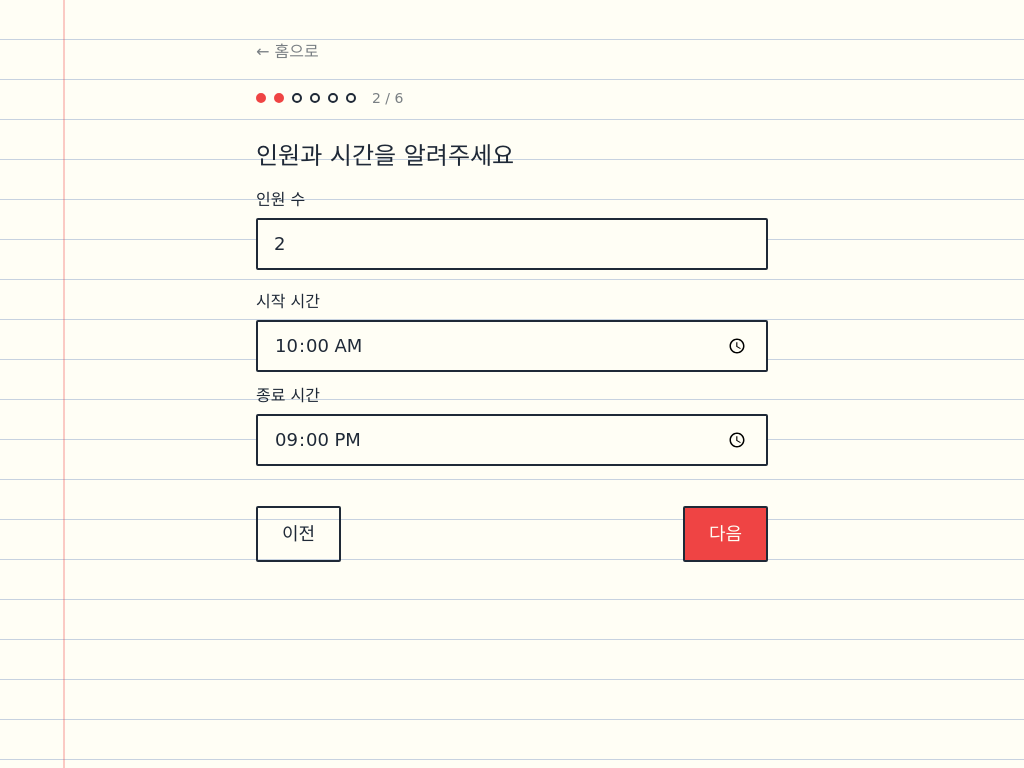
Test case: ConditionWizardView — 인원·예산 범위 검증(백엔드와 같은 범위, 항목 7) › 인원이 30명을 넘으면 안내 문구를 보여주고 다음 버튼을 막는다
Replace the text in the number field labelled "인원 수" with "31" at (512, 244), box [256,218,768,270]
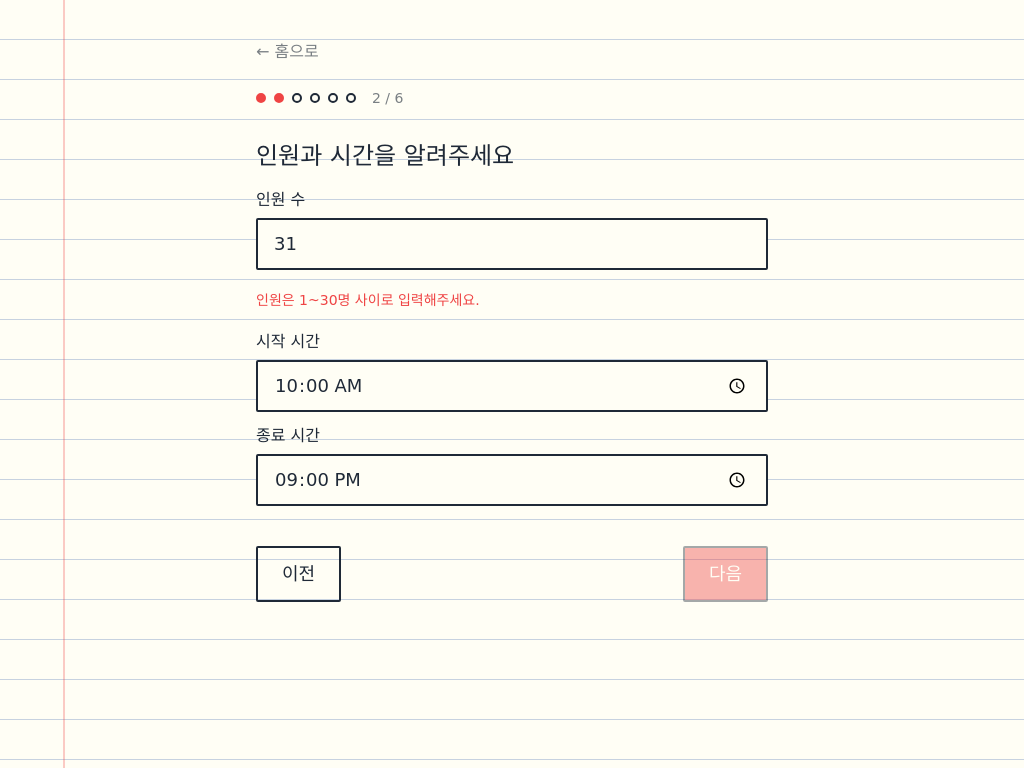
Expected: the text "인원은 1~30명 사이로 입력해주세요" is shown, [256,292,480,308]
Expected: the button "다음" is disabled, [683,546,768,602]
